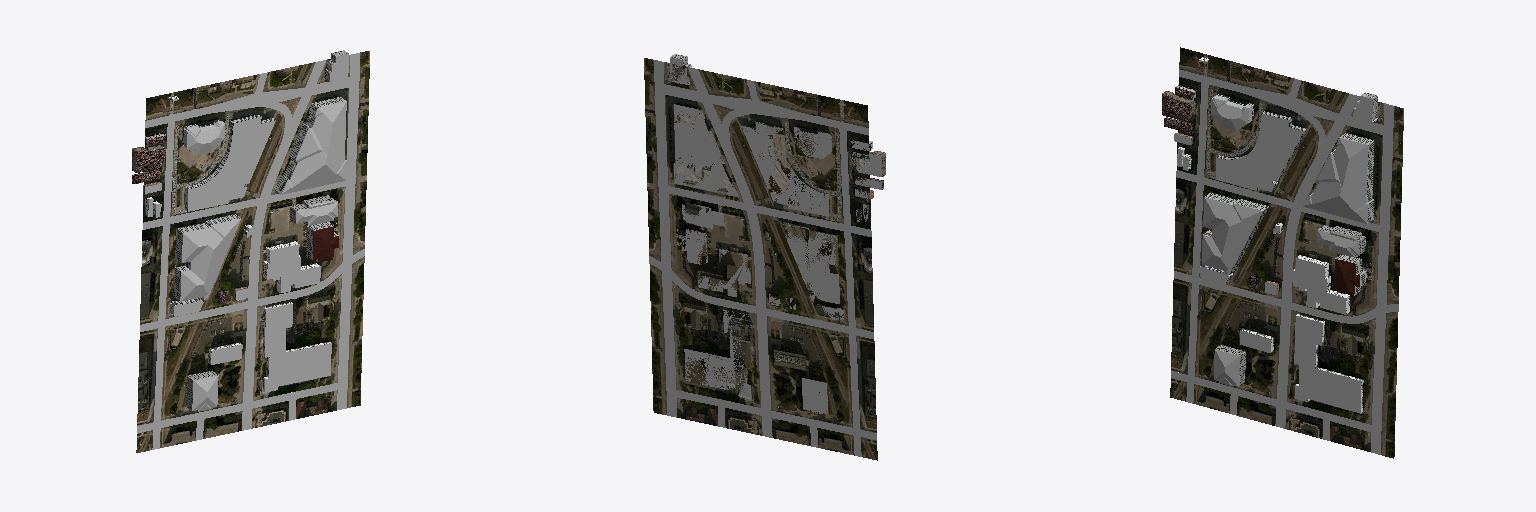
3 views of the same model, side by side, from view 1: azimuth 30°, elevation 25°; view 2: azimuth 150°, elevation 25°; view 3: azimuth 330°, elevation 25° (orthographic).
Visible parts, largest first — view 1: shape_node30_30, shape_node28_28, shape_node1_1, shape_node6_6, shape_node29_29, shape_node7_7, shape_node20_20, shape_node27_27, shape_node14_14, shape_node23_23, shape_node24_24; view 2: shape_node30_30, shape_node28_28, shape_node0_0, shape_node29_29, shape_node23_23, shape_node24_24; view 3: shape_node30_30, shape_node28_28, shape_node1_1, shape_node6_6, shape_node29_29, shape_node7_7, shape_node20_20, shape_node14_14, shape_node23_23, shape_node27_27, shape_node24_24.
Boxes of the visible parts, x1,y1,x2,y2 form: shape_node30_30: [137, 51, 369, 434]; shape_node28_28: [137, 53, 364, 449]; shape_node1_1: [143, 54, 362, 446]; shape_node6_6: [180, 101, 346, 411]; shape_node29_29: [136, 388, 360, 452]; shape_node7_7: [175, 98, 344, 300]; shape_node20_20: [134, 135, 225, 303]; shape_node27_27: [174, 97, 346, 300]; shape_node14_14: [313, 226, 338, 262]; shape_node23_23: [154, 92, 338, 332]; shape_node24_24: [143, 88, 368, 334]; shape_node30_30: [644, 58, 876, 441]; shape_node28_28: [649, 60, 876, 456]; shape_node0_0: [670, 58, 881, 413]; shape_node29_29: [653, 395, 877, 460]; shape_node23_23: [667, 63, 860, 339]; shape_node24_24: [645, 95, 870, 341]; shape_node30_30: [1171, 47, 1403, 440]; shape_node28_28: [1171, 69, 1398, 454]; shape_node1_1: [1172, 60, 1392, 448]; shape_node6_6: [1202, 137, 1367, 386]; shape_node29_29: [1170, 380, 1394, 458]; shape_node7_7: [1205, 134, 1372, 294]; shape_node20_20: [1162, 87, 1255, 289]; shape_node14_14: [1334, 259, 1359, 295]; shape_node23_23: [1187, 54, 1380, 286]; shape_node27_27: [1203, 133, 1373, 295]; shape_node24_24: [1177, 60, 1402, 358].
Bounding box in the file's own units: 330 × 476 × 23.6.
Materials: 31 (27 with a texture image).